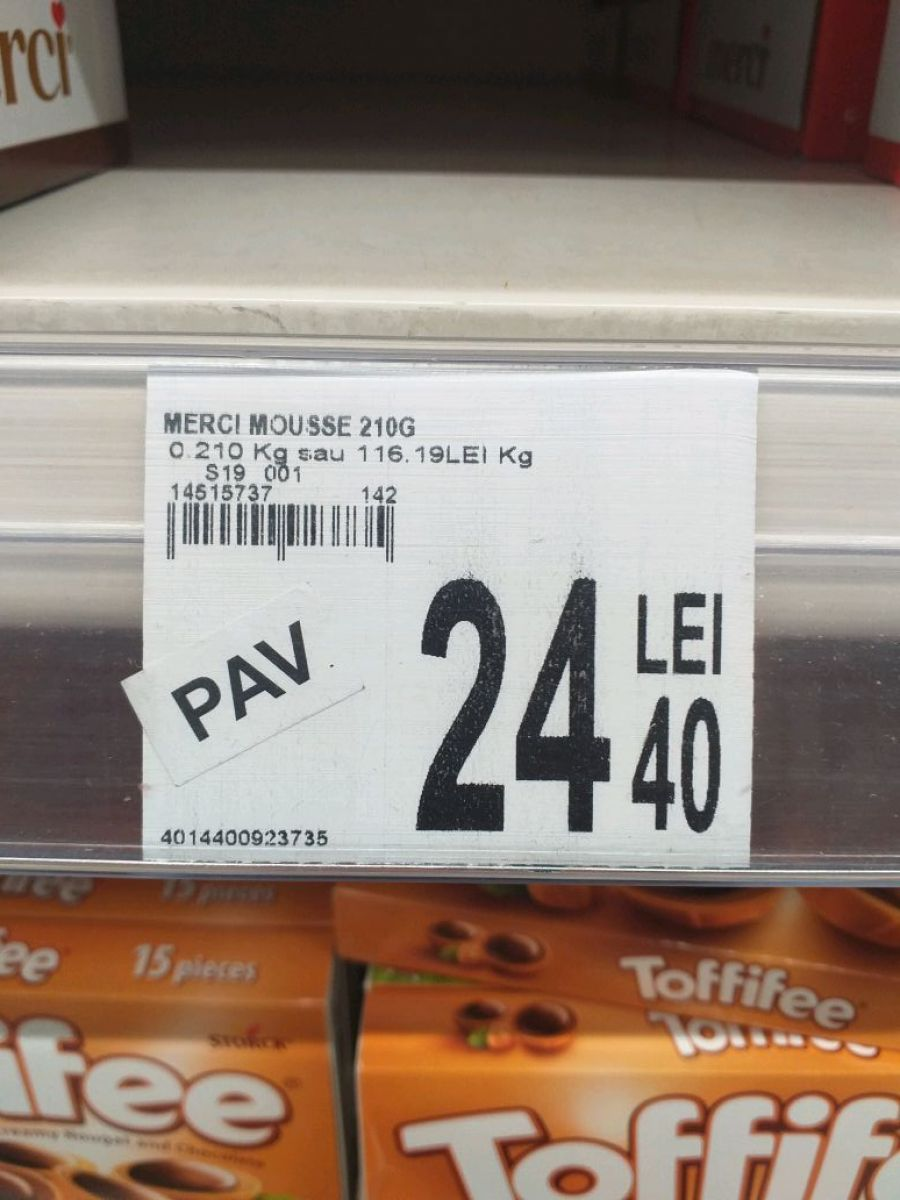price_bani: (614, 685, 734, 848)
price_lei: (401, 558, 619, 848)
price_tag: (106, 347, 785, 900)
product_id: (150, 820, 337, 855)
product_name: (146, 407, 429, 442)
